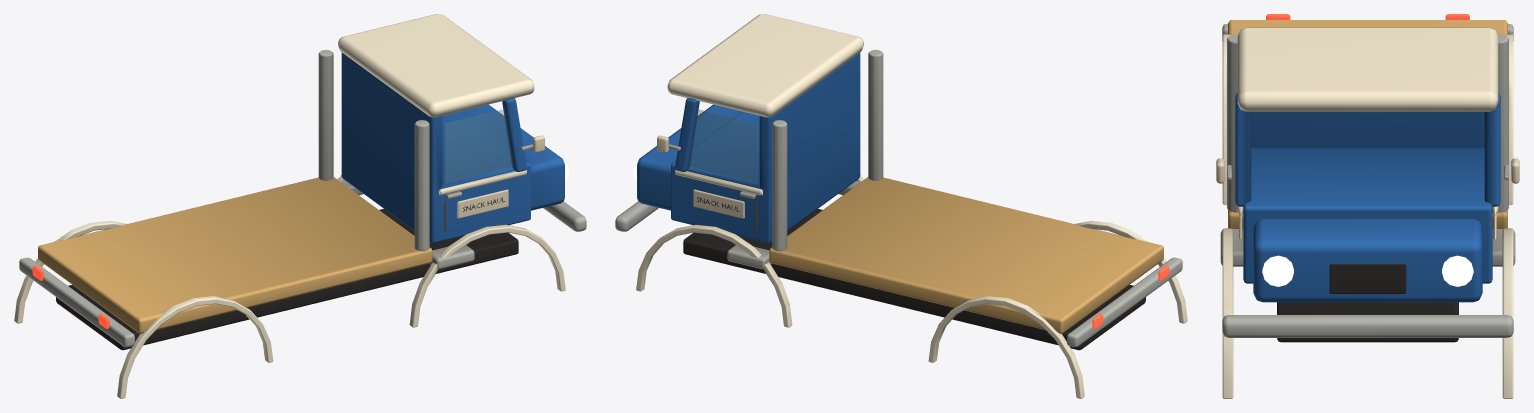
Rendered from truck_hauler.glb.
The picture shows the model from 3 angles, left to right: view 1: azimuth 30°, elevation 25°; view 2: azimuth 150°, elevation 25°; view 3: azimuth 270°, elevation 25°; orthographic projection. The views are drawn at different scales.
Parts seen in each view (by area): view 1: ladder frame, side window; view 2: ladder frame, side window; view 3: ladder frame, round lamp, tail lamp.
Part boxes in pixels (x1,y1,x2,y2): ladder frame: (14,14,586,398); side window: (445,109,513,183); ladder frame: (615,14,1187,398); side window: (688,109,756,183); ladder frame: (1216,20,1519,398); round lamp: (1262,255,1473,286); tail lamp: (1266,14,1469,19).
Bounding box in the file's own units: 5.12 × 2.22 × 2.11.
